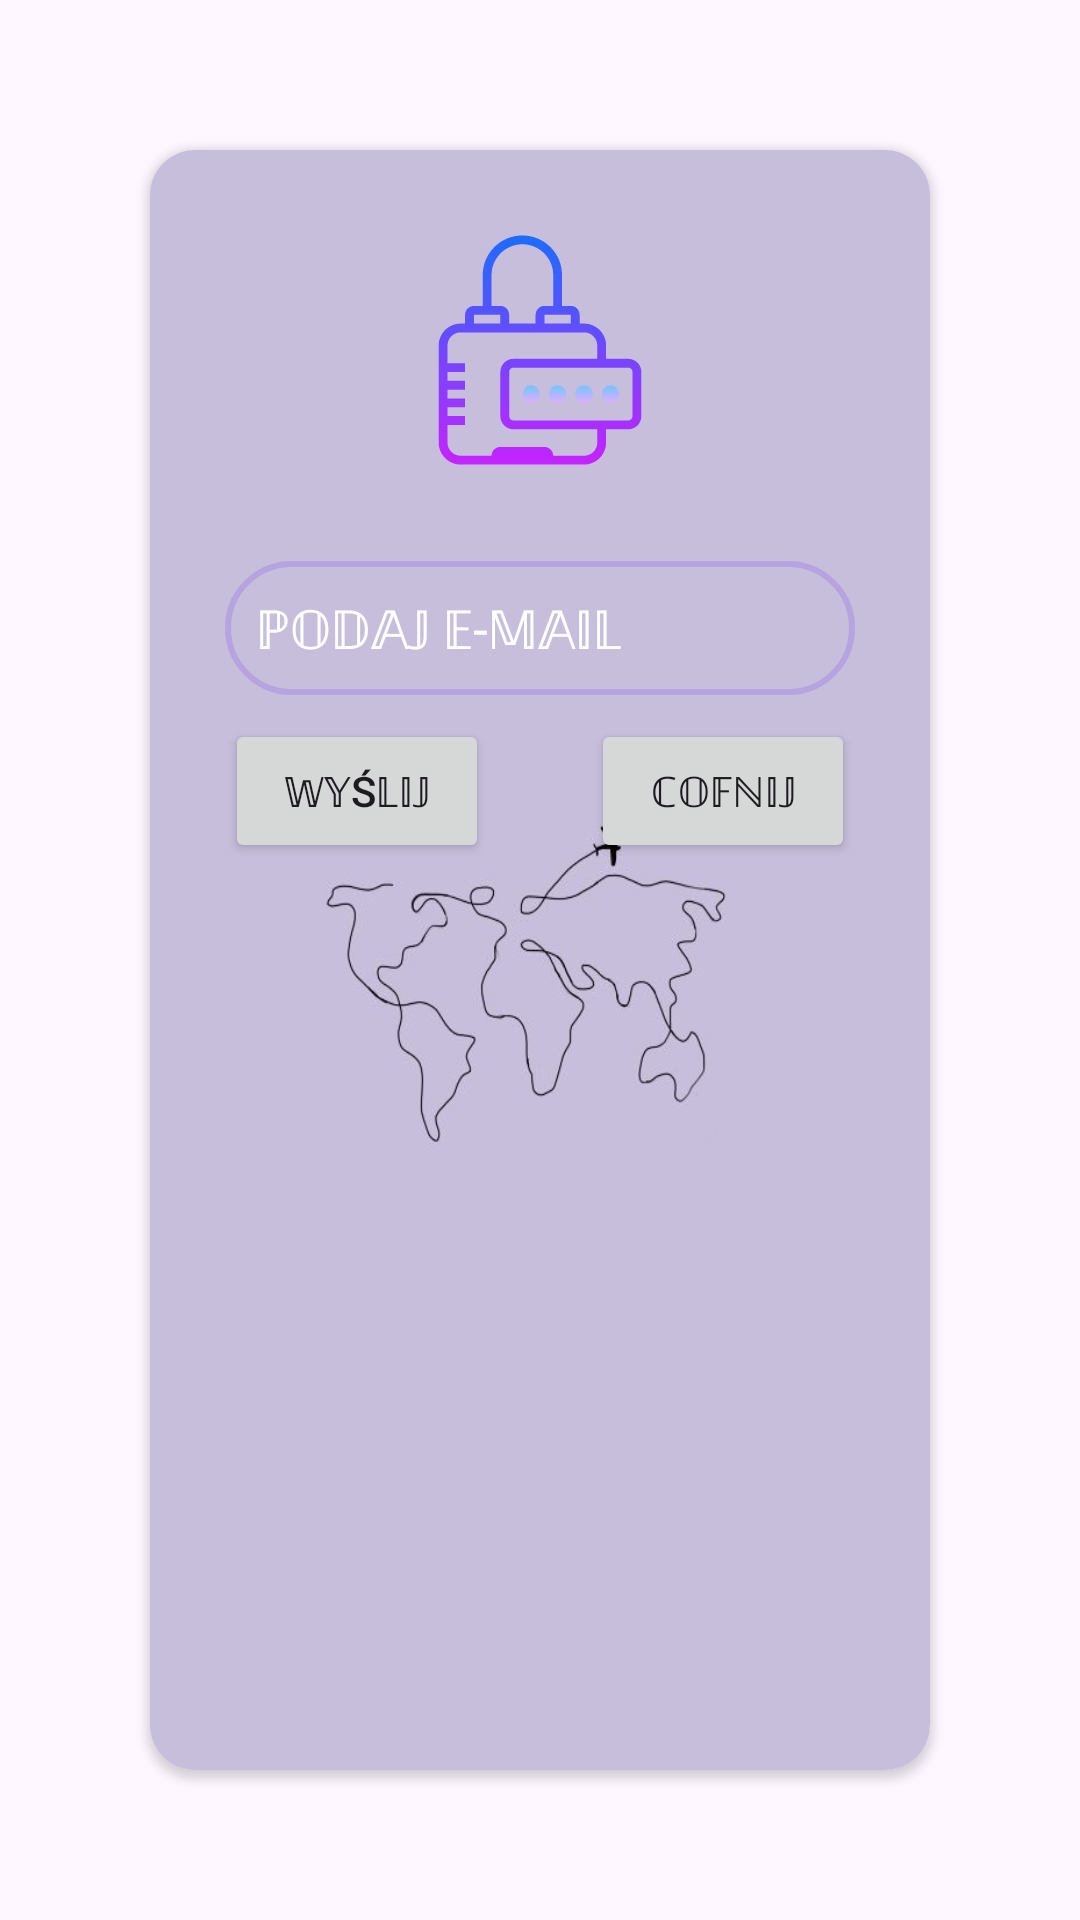

Icon bounding boxes for this 1080 × 1920 phone screenshot, format (x1, y1, x2, y2):
security: (438, 235, 642, 465)
